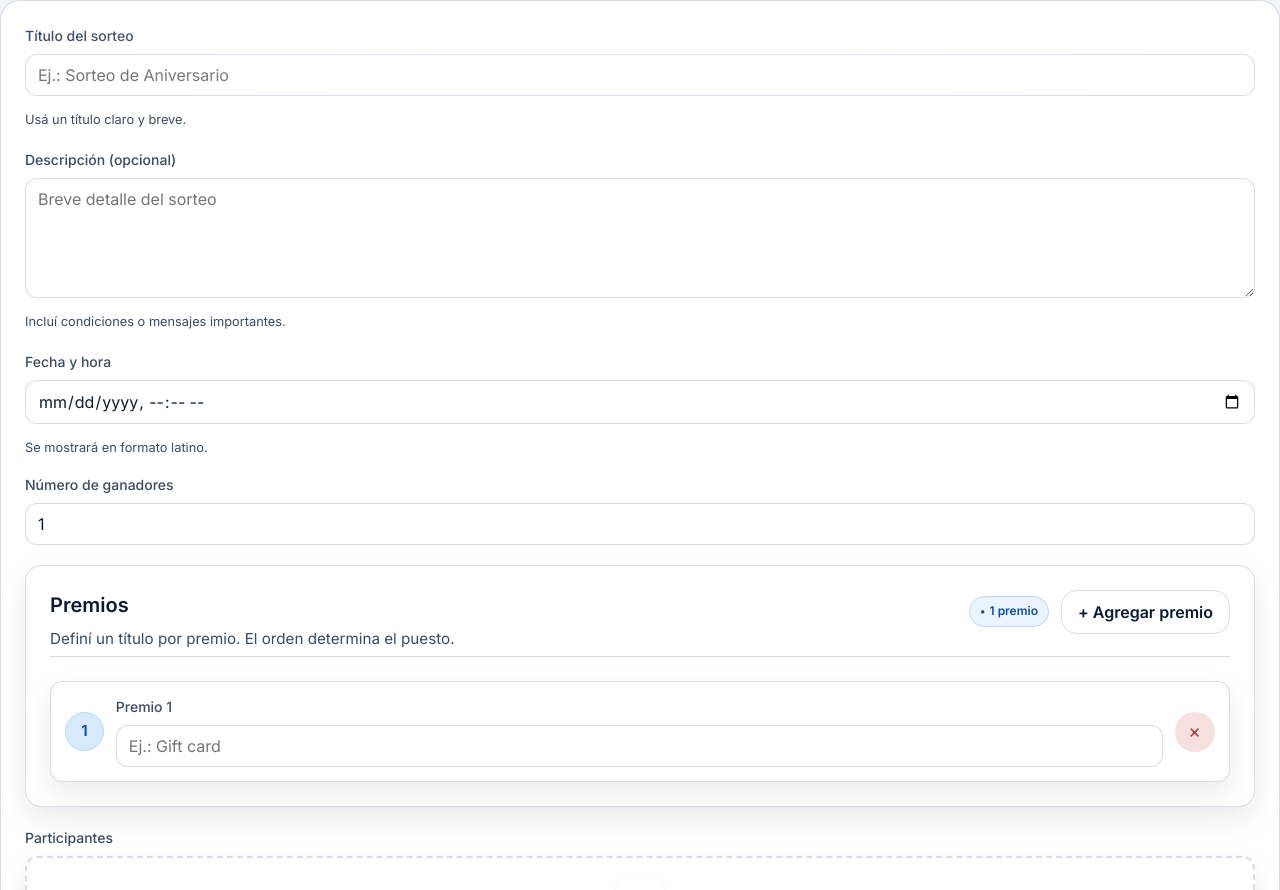
Scenario: RaffleForm › muestra un toast informativo al limpiar manualmente el formulario
The image size is (1280, 890).
Type "Demo" into the field labelled "Título del sorteo" at (640, 75), box [25,54,1255,96]
(page scrolled)
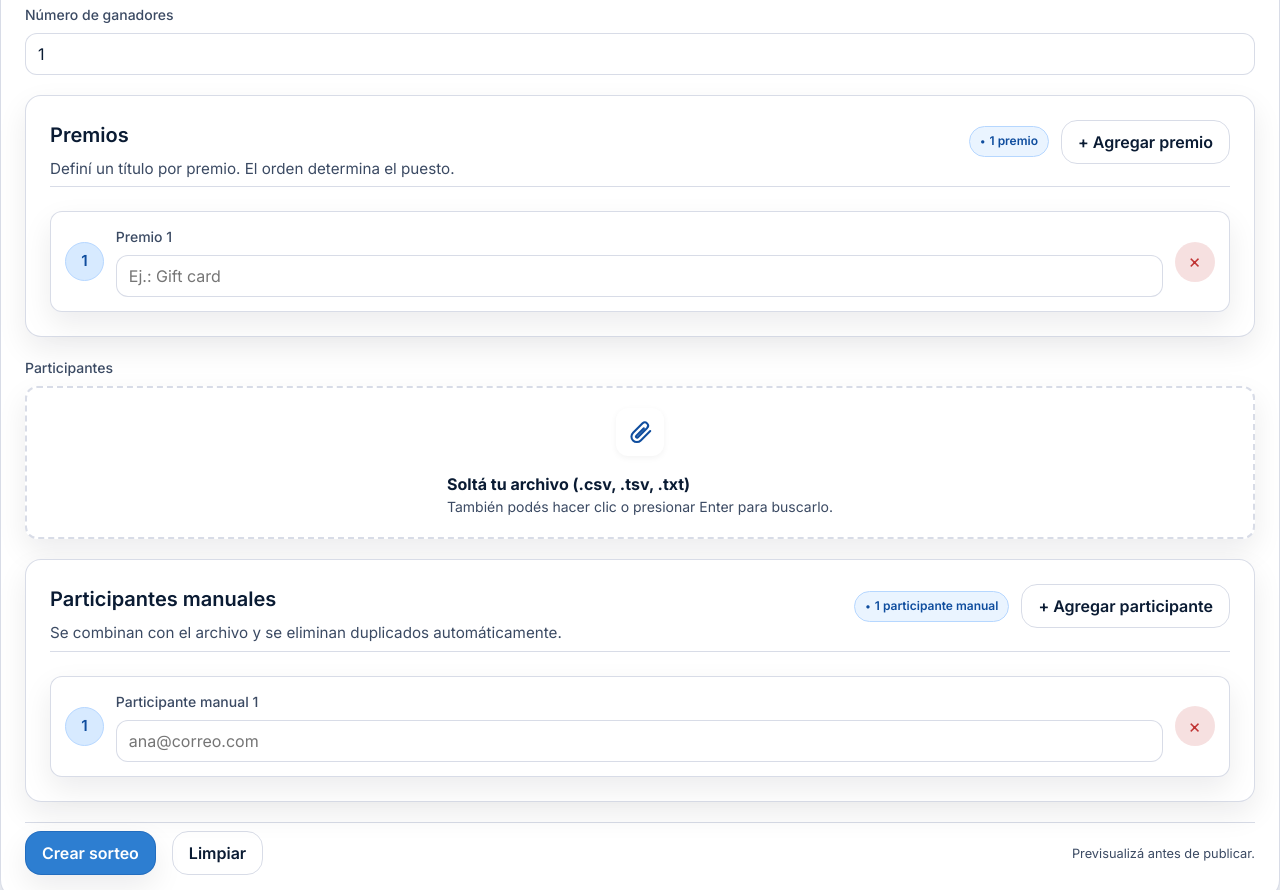
Click the button "Limpiar" at (218, 853), box [172,831,263,875]
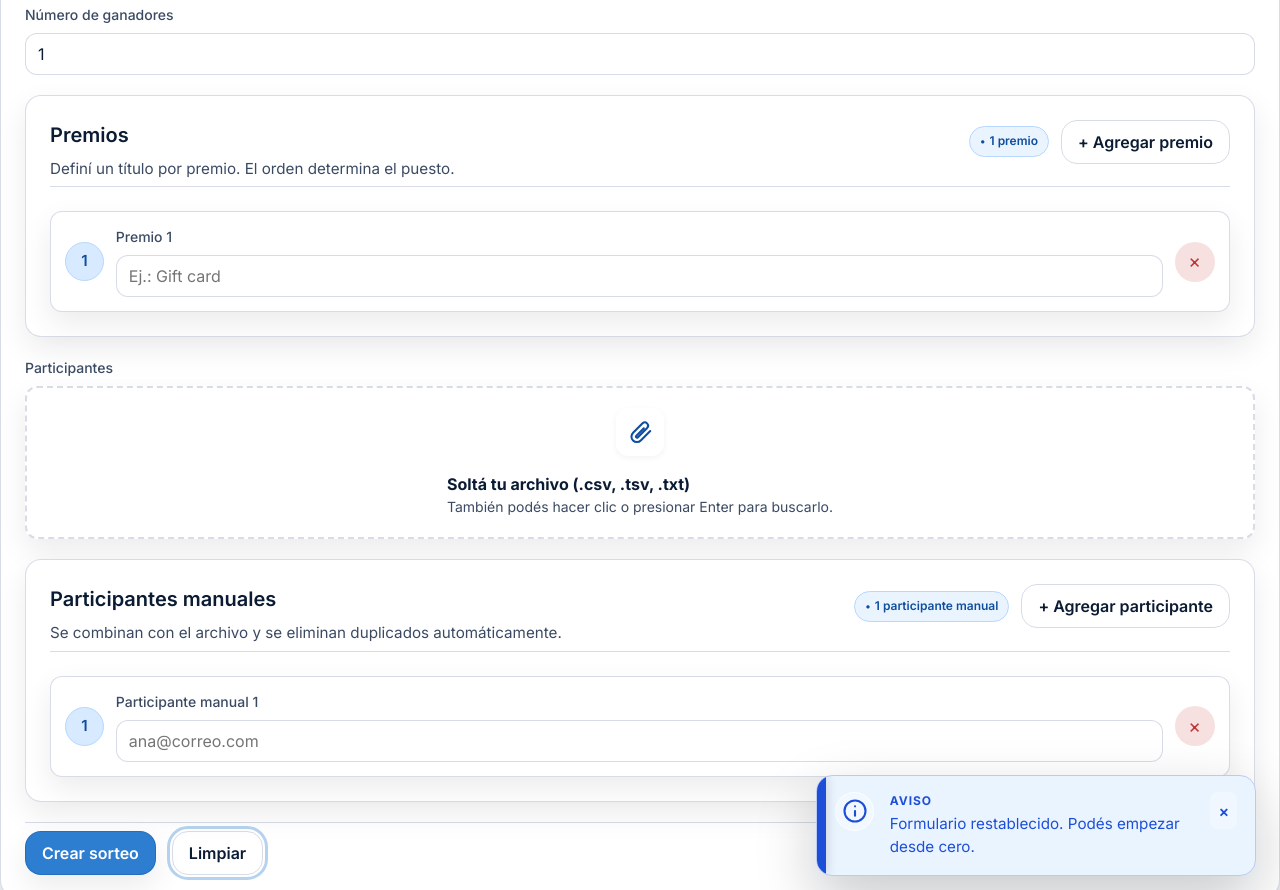
Now the text "Formulario restablecido. Podés empezar desde cero." is shown, box [890,813,1186,859]
